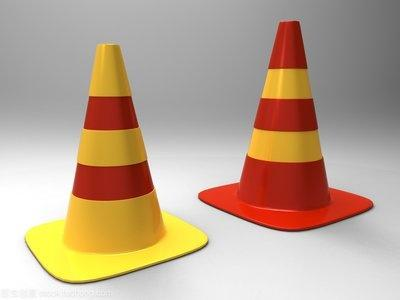cone_barrel: (52, 44, 175, 262), (227, 21, 341, 218)
